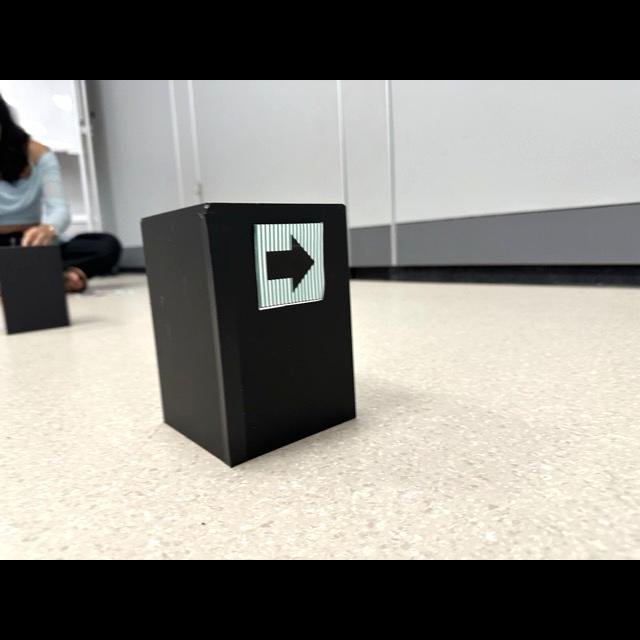RIGHT: (265, 235, 315, 292)
